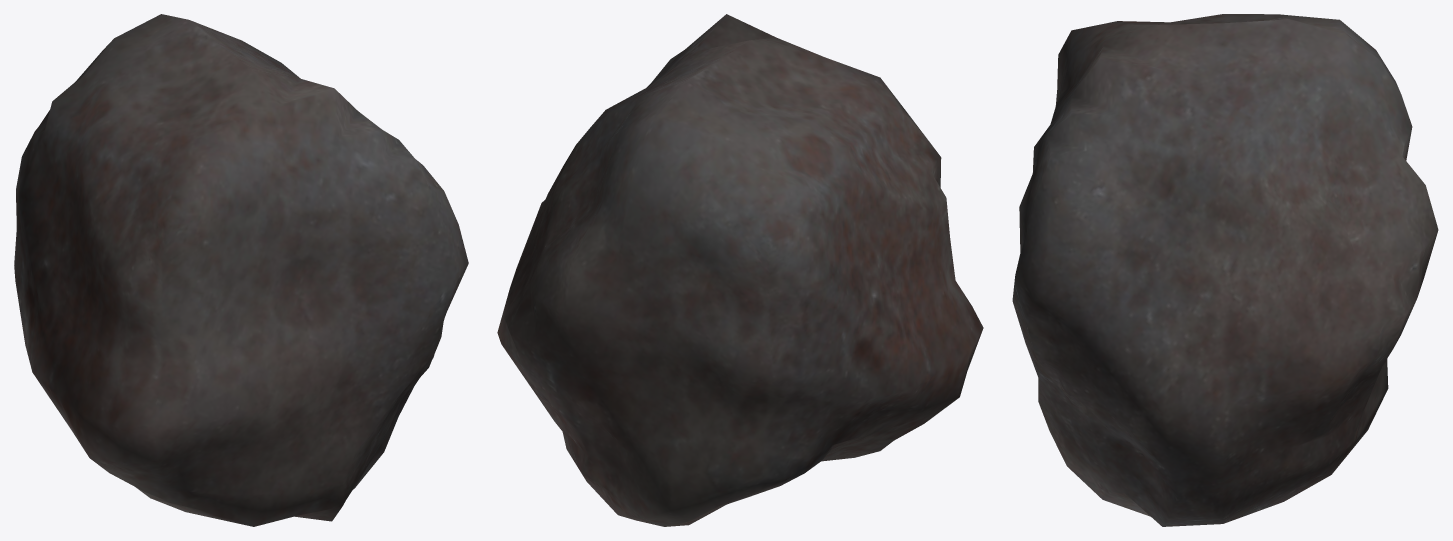
The model's file is asteroid10.dae.
The picture shows the model from 3 angles, left to right: view 1: azimuth 30°, elevation 25°; view 2: azimuth 150°, elevation 25°; view 3: azimuth 270°, elevation 25°; orthographic projection.
Parts seen in each view (by area): view 1: Lp10; view 2: Lp10; view 3: Lp10.
Boxes of the visible parts, box(x1,y1,x2,y2) form: Lp10: box(14, 14, 468, 526); Lp10: box(497, 14, 983, 526); Lp10: box(1012, 14, 1438, 526).
Size of the model in its own units: 7.82 by 8.84 by 7.2.
1 material, 1 textured.
